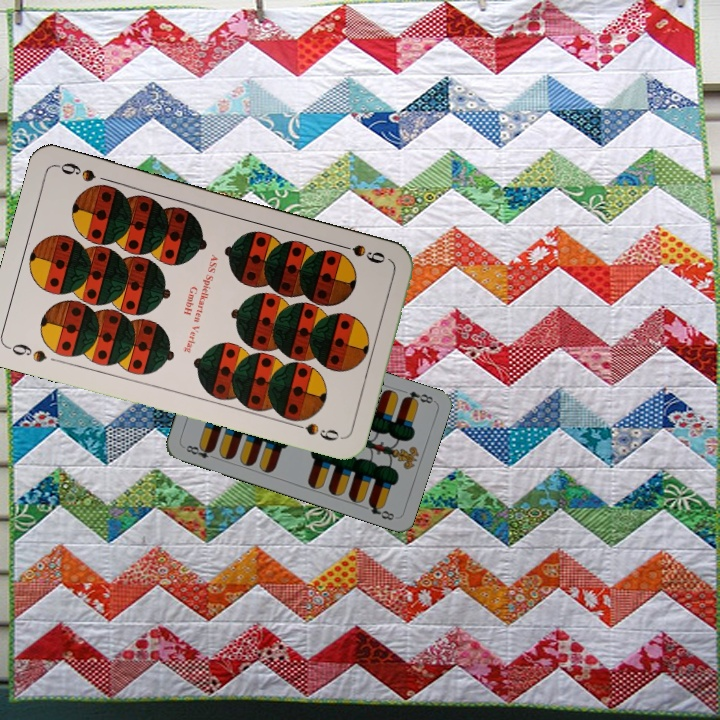E8: (182, 441, 219, 462), (399, 387, 436, 407)
S9: (332, 239, 388, 266), (3, 339, 49, 365)
